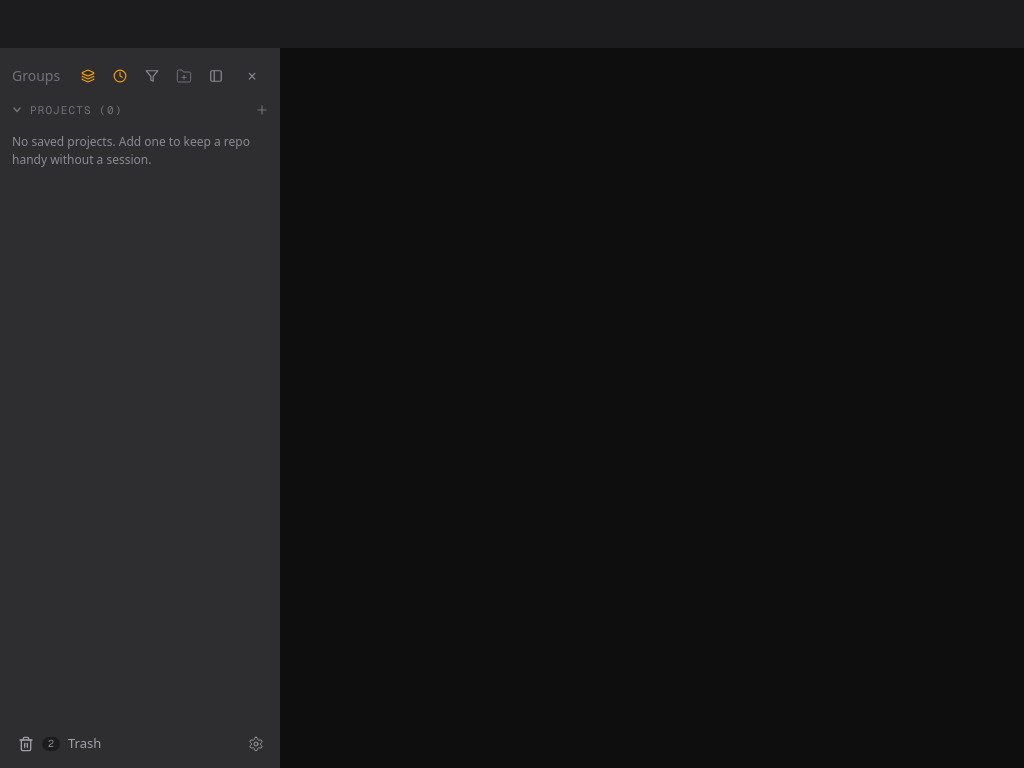
Test: WorkspaceSidebar Trash control (#2489, #2512) › orders the Trash rows newest-trashed first
The width and height of the screenshot is (1024, 768).
Click the button with test id "sidebar-trash-toggle": point(122, 744) [8,728,236,760]
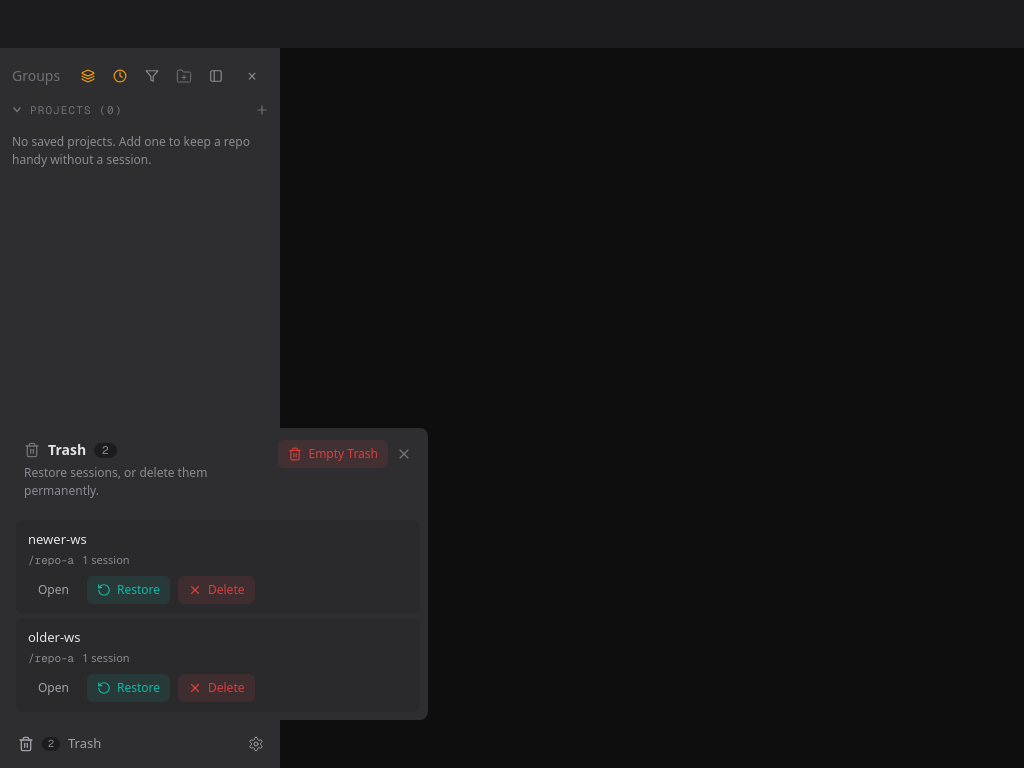
Check: the element with test id "sidebar-trash-row" shows "newer-ws", box [28,530,87,548]
Check: the element with test id "sidebar-trash-row" shows "older-ws", box [28,628,80,646]
